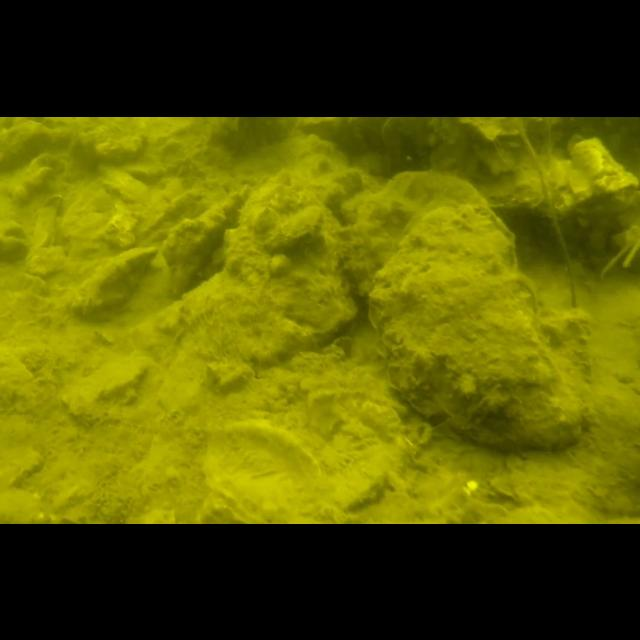Oyster-Closed: (364, 196, 576, 442), (338, 165, 484, 297), (200, 414, 320, 524), (158, 189, 244, 297), (62, 240, 156, 314), (72, 116, 148, 164), (264, 203, 324, 255)
Oyster-Open: (426, 131, 546, 209), (546, 136, 640, 220), (1, 217, 32, 259)
